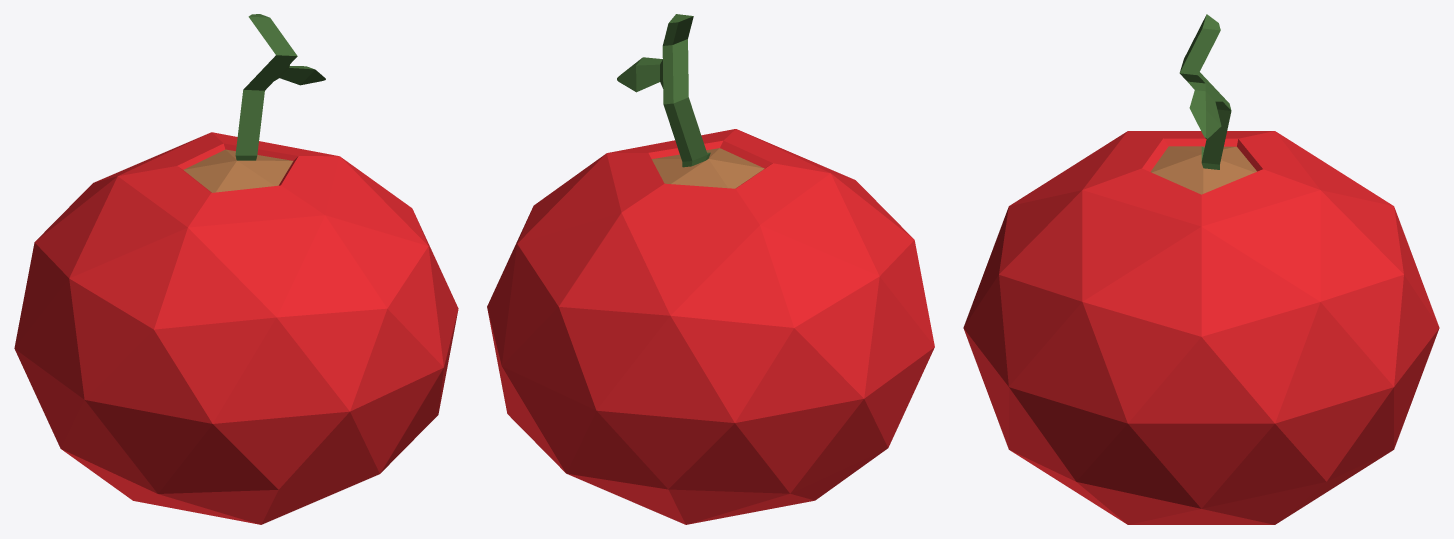
Rendered from maca.fbx.
The picture shows the model from 3 angles, left to right: view 1: azimuth 30°, elevation 25°; view 2: azimuth 150°, elevation 25°; view 3: azimuth 270°, elevation 25°; orthographic projection. The views are drawn at different scales.
Parts seen in each view (by area): view 1: Icosphere; view 2: Icosphere; view 3: Icosphere.
Part boxes in pixels (box(x1,y1,x2,y2)): Icosphere: box(14, 14, 458, 524); Icosphere: box(487, 14, 934, 524); Icosphere: box(963, 14, 1439, 524).
Bounding box in the file's own units: 83.93 × 103 × 88.25.
